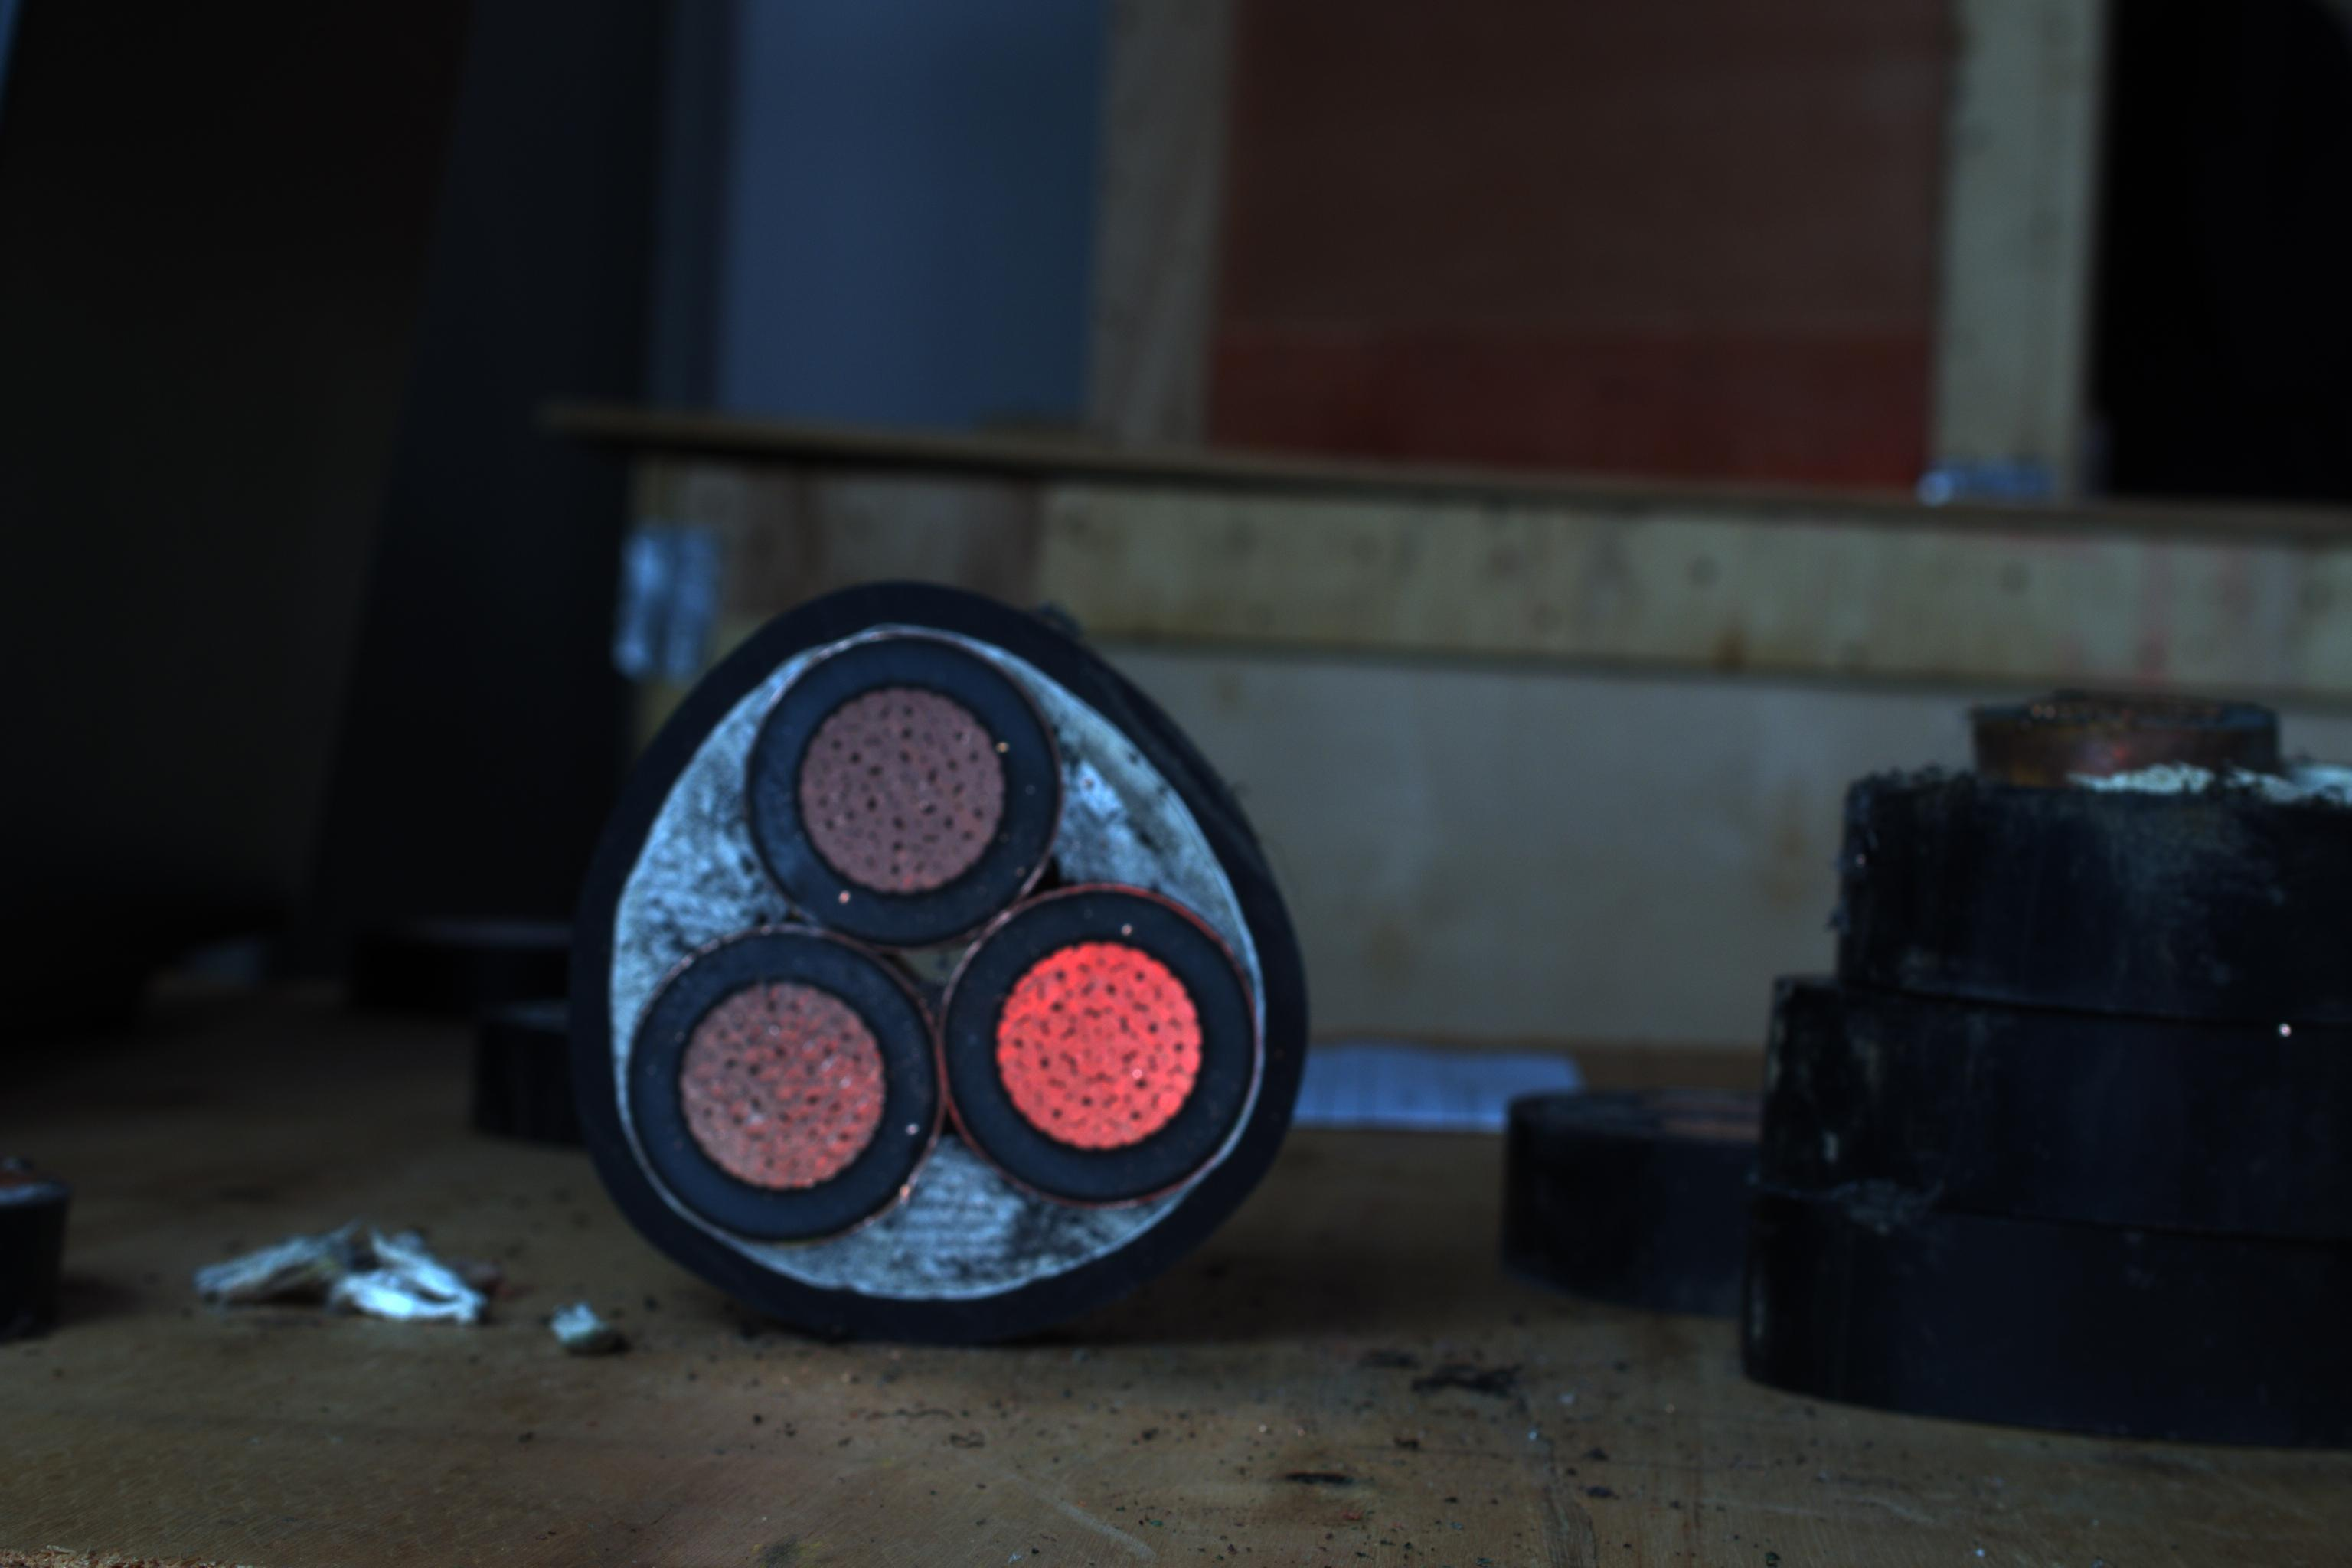ZA_YJV_8.7_10kV_3x400: (597, 581, 1270, 1339)
